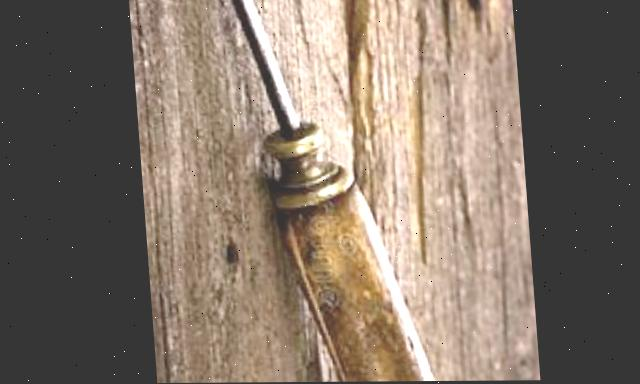ice pick: (203, 0, 447, 383)
